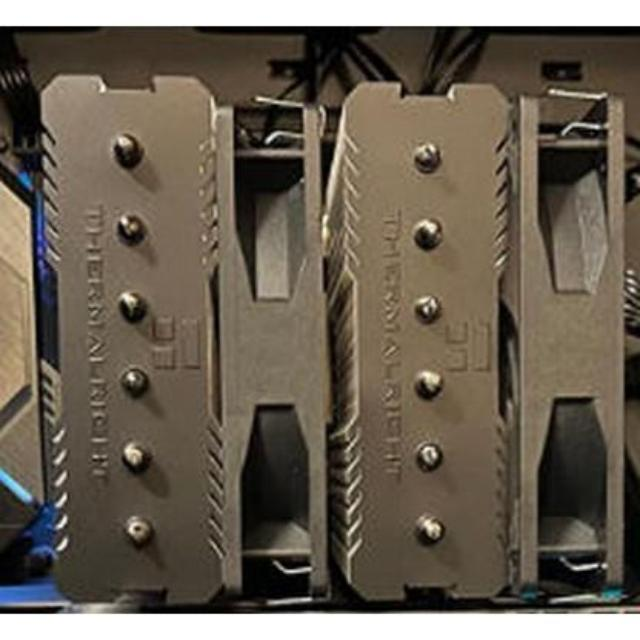CPU_Fan: (38, 69, 628, 609)
